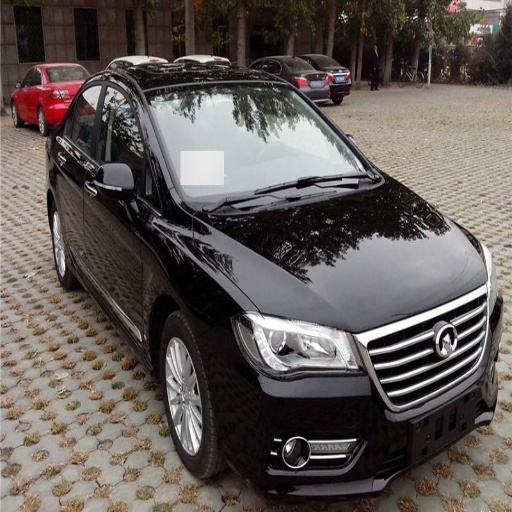front_bumper: (205, 348, 456, 492)
front_right_door: (86, 72, 152, 333)
front_right_light: (235, 306, 361, 377)
